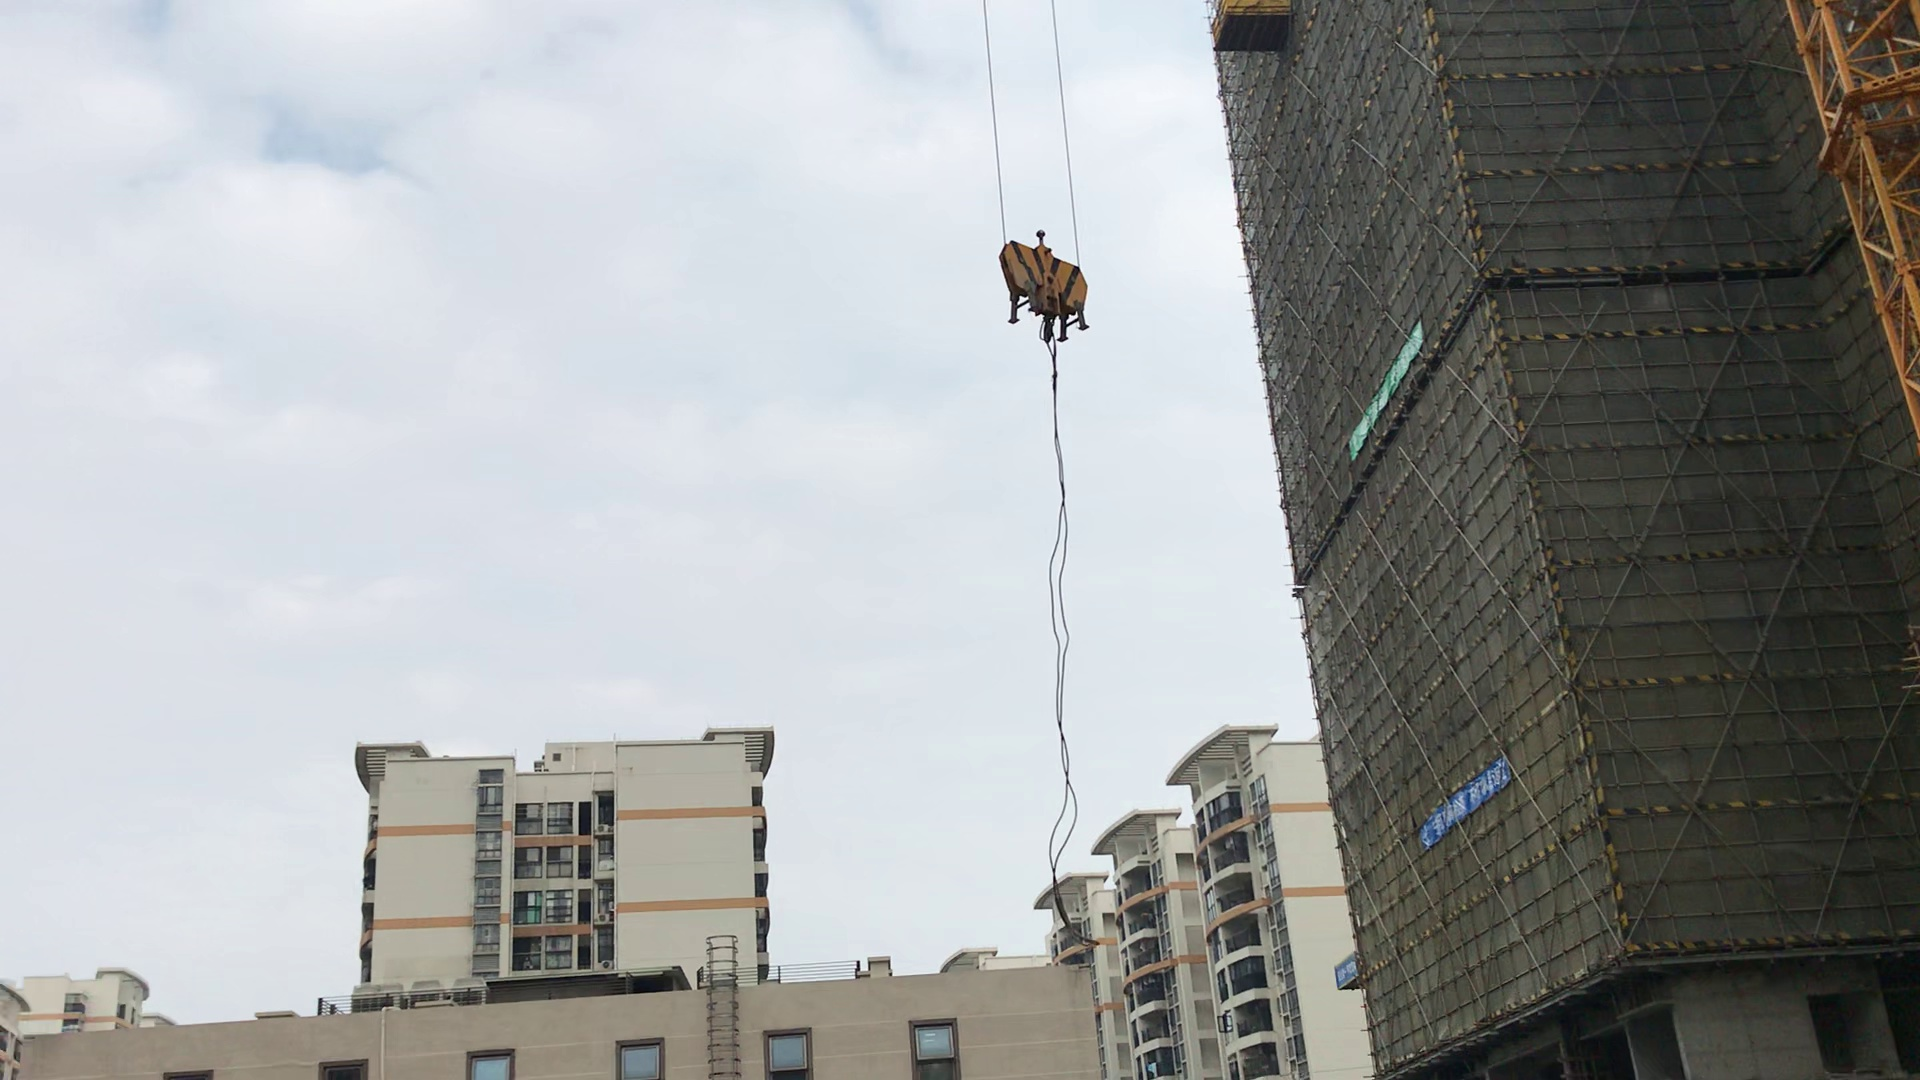hook: (998, 231, 1088, 349)
slogan: (1340, 319, 1425, 458), (1418, 756, 1511, 845)
